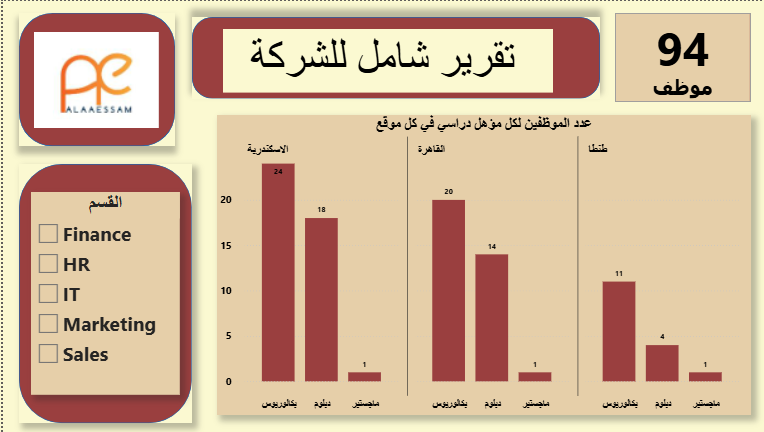

Layout of this report page (visuals, bound fields, positions):
{"tool":"powerbi","page":{"name":"عام","canvas":[1280,720],"ordinal":0},"visuals":[{"type":"shape","box":[315,26.7,680,136],"z":0,"group":"g3"},{"type":"shape","box":[26.7,271.7,288,432],"z":0,"group":"g2"},{"type":"card","fields":{"Values":["Count(Company.الرقم الوظيفي)"]},"box":[1020,20,226,148],"z":1000},{"type":"shape","box":[26.7,20,260,222],"z":2000,"group":"g1"},{"type":"columnChart","title":"عدد الموظفين لكل مؤهل دراسي في كل موقع","fields":{"Y":["CountNonNull(Company.الرقم الوظيفي)"],"Category":["Company.المؤهل الدراسي"],"Rows":["Company.الموقع"]},"box":[356,190,890,500],"z":2000},{"type":"textbox","box":[367,46.7,550,106],"z":3000,"group":"g3"},{"type":"group","id":"g1","title":"Group 1","box":[26.7,20,260,221.7],"z":4000},{"type":"image","box":[36.7,46,238,170],"z":5000,"group":"g1"},{"type":"group","id":"g2","title":"Group 2","box":[26.7,271.7,288.3,431.7],"z":5000},{"type":"group","id":"g3","title":"Group 3","box":[315,26.7,680,135],"z":5001},{"type":"slicer","title":"القسم","fields":{"Values":["Company.القسم"]},"box":[46.7,317.7,248,338],"z":7000,"group":"g2"}]}

Visuals, with their boxes in screenshot pixels (x1, y1, x2, y2), scaled from the page's 1280x720 canvas onto the 764x432 screenshot:
shape: [188, 16, 594, 98]
shape: [16, 163, 188, 422]
card - Count(Company.الرقم الوظيفي): [609, 12, 744, 101]
shape: [16, 12, 171, 145]
"عدد الموظفين لكل مؤهل دراسي في كل موقع" columnChart: [212, 114, 744, 414]
textbox: [219, 28, 547, 92]
"Group 1" group: [16, 12, 171, 145]
image: [22, 28, 164, 130]
"Group 2" group: [16, 163, 188, 422]
"Group 3" group: [188, 16, 594, 97]
"القسم" slicer: [28, 191, 176, 393]
